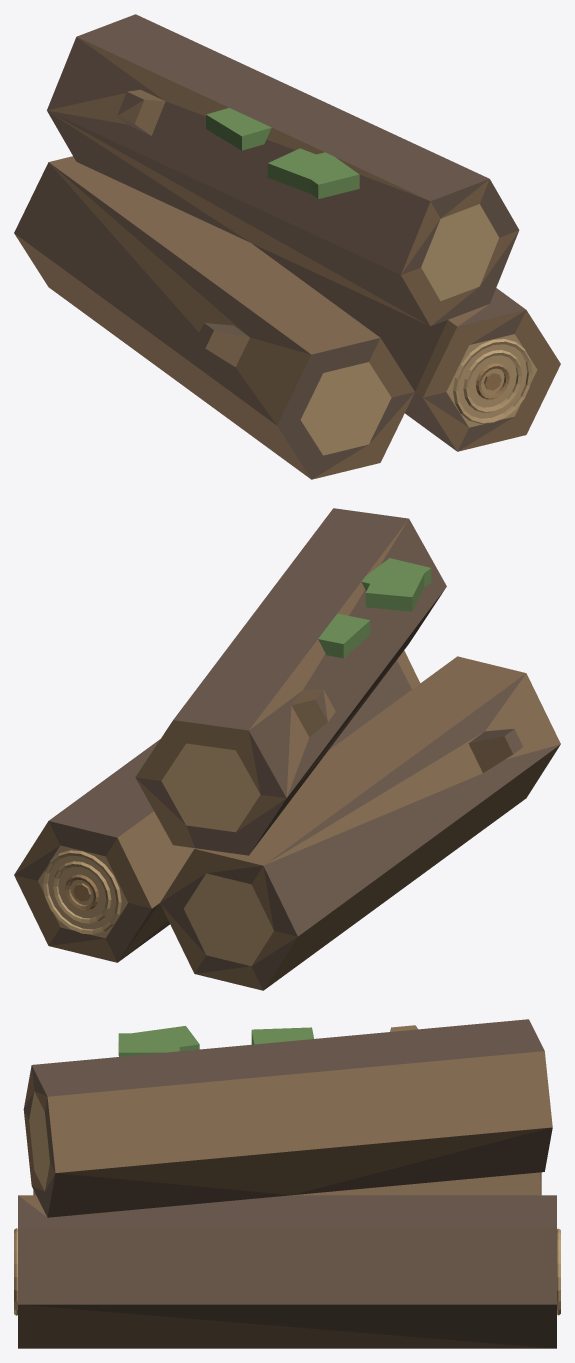
File: log_stack.glb
3 views of the same model, one above another, from view 1: azimuth 30°, elevation 25°; view 2: azimuth 150°, elevation 25°; view 3: azimuth 270°, elevation 25° (orthographic). The views are drawn at different scales.
Visible parts, largest first — view 1: log_stack; view 2: log_stack; view 3: log_stack.
Boxes of the visible parts, <box> form: log_stack: <box>14,14,560,479</box>; log_stack: <box>14,508,560,990</box>; log_stack: <box>14,1019,560,1348</box>.
Bounding box in the file's own units: 0.4247 × 0.3464 × 0.71.
